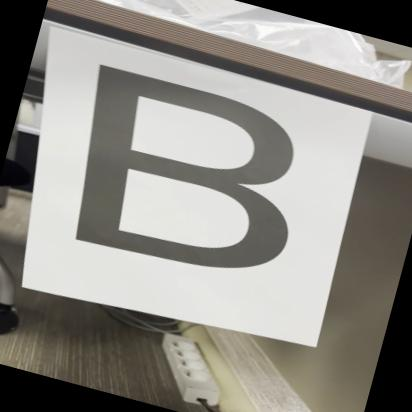seat: (44, 56, 328, 294)
